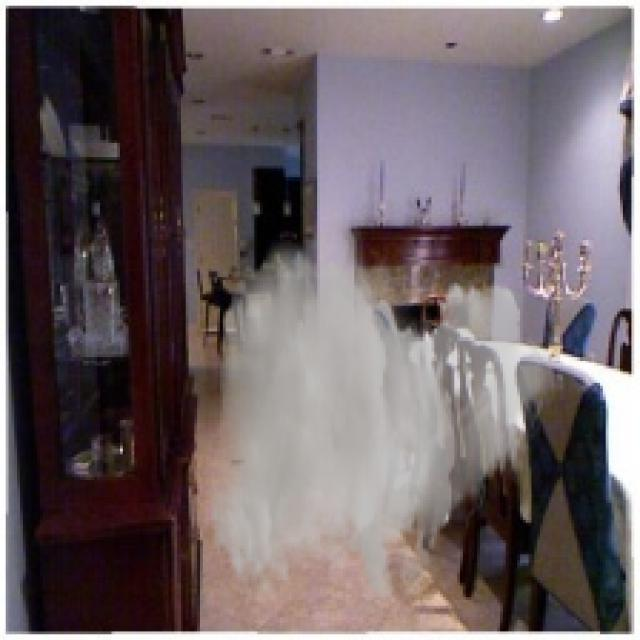Smoke: (208, 194, 566, 603)
